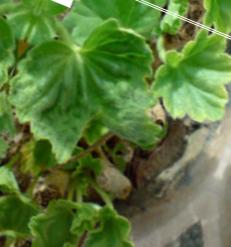Tomato leaf mosaic virus: (0, 0, 201, 195), (138, 19, 231, 134)
